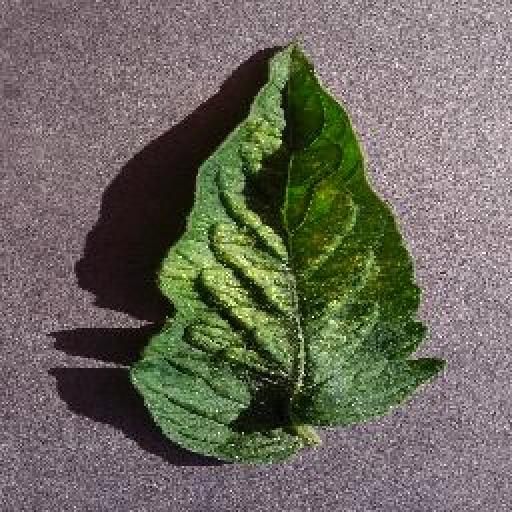disease_tomato: (129, 44, 443, 466)
